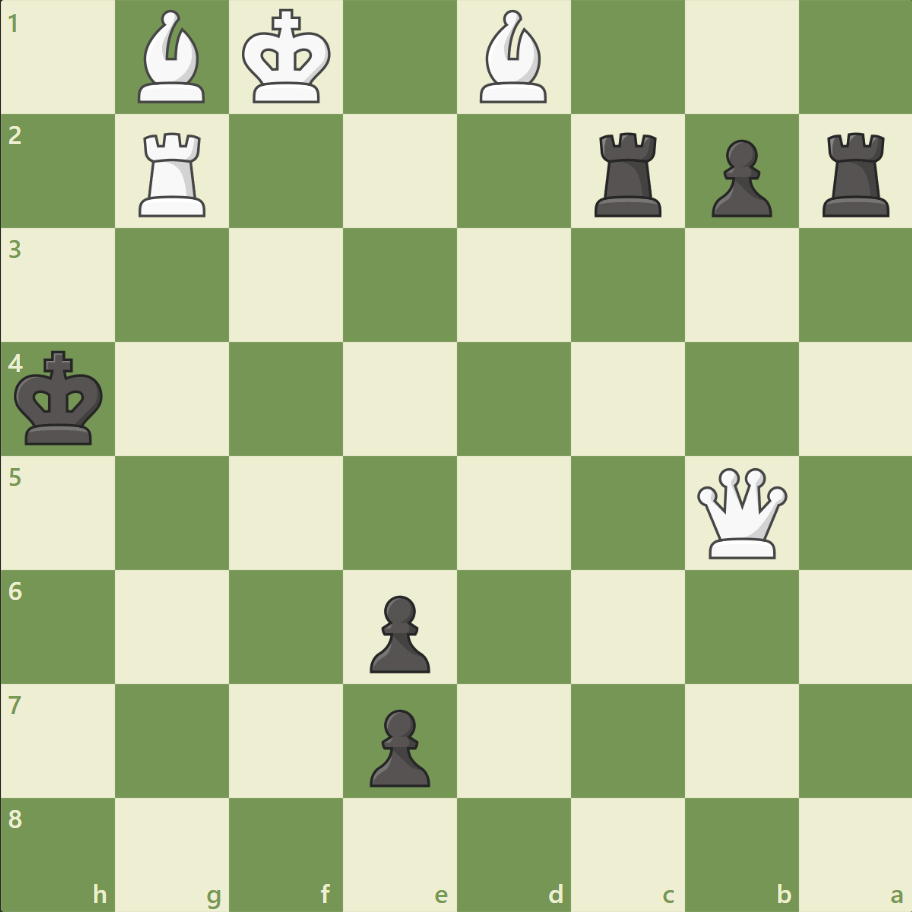B: (471, 6, 555, 109), (131, 6, 215, 109)
K: (238, 4, 338, 112)
Q: (691, 463, 790, 562)
R: (133, 125, 215, 222)
k: (11, 344, 111, 452)
p: (701, 132, 776, 223), (361, 700, 435, 791), (361, 586, 435, 677)
r: (814, 125, 897, 222), (587, 125, 670, 222)
